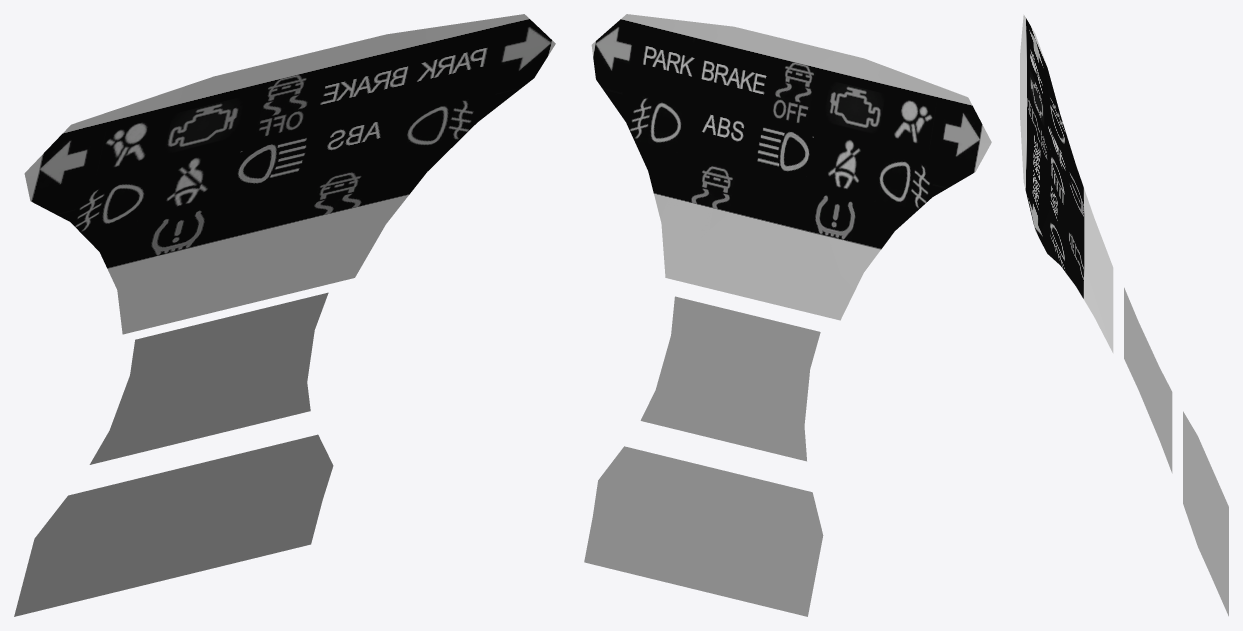
File: LCD.fbx
3 renders of one model, left to right at view 1: azimuth 30°, elevation 25°; view 2: azimuth 150°, elevation 25°; view 3: azimuth 270°, elevation 25°, orthographic. The views are drawn at different scales.
Visible parts, largest first — view 1: GEO_LCD_ICONS, GEO_LCD; view 2: GEO_LCD_ICONS, GEO_LCD; view 3: GEO_LCD_ICONS, GEO_LCD.
Boxes of the visible parts, x1=… form: GEO_LCD_ICONS: x1=24, y1=14, x2=555, y2=334; GEO_LCD: x1=14, y1=292, x2=333, y2=616; GEO_LCD_ICONS: x1=591, y1=14, x2=991, y2=320; GEO_LCD: x1=584, y1=296, x2=823, y2=616; GEO_LCD_ICONS: x1=1020, y1=14, x2=1113, y2=353; GEO_LCD: x1=1124, y1=287, x2=1228, y2=616.
Size of the model in its own units: 0.092 by 0.1035 by 0.0412.
